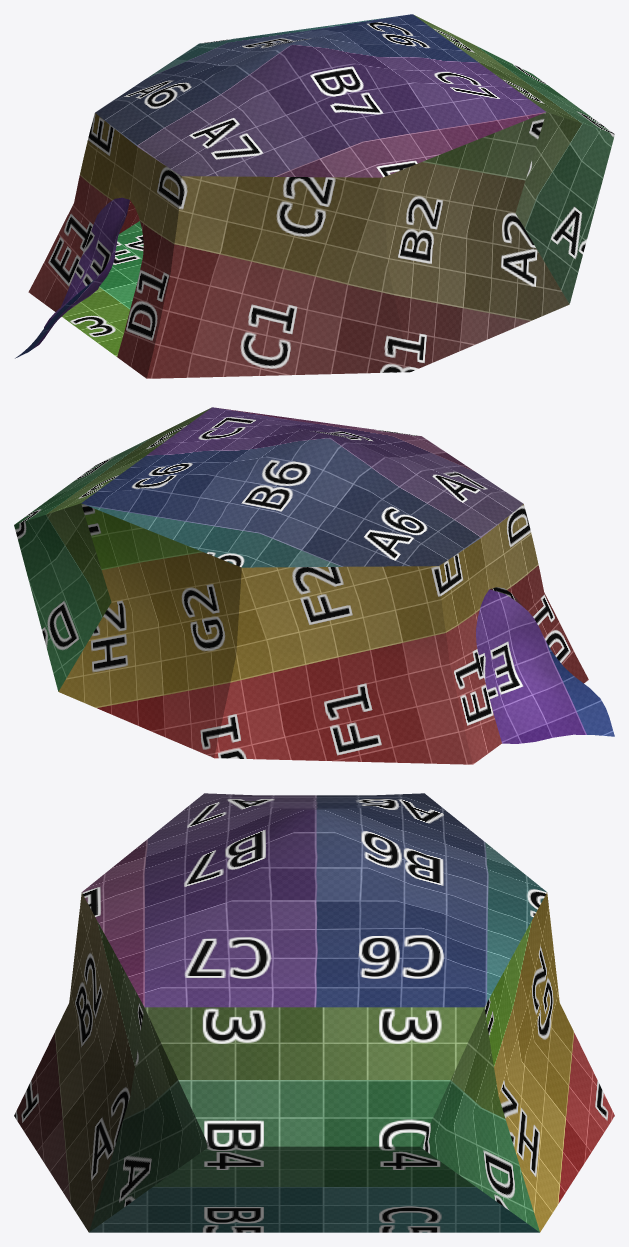
The model's file is TENT_MAIN.glb.
3 views of the same model, one above another, from view 1: azimuth 30°, elevation 25°; view 2: azimuth 150°, elevation 25°; view 3: azimuth 270°, elevation 25° (orthographic). The views are drawn at different scales.
Visible parts, largest first — view 1: Cylinder.001; view 2: Cylinder.001; view 3: Cylinder.001.
Boxes of the visible parts, box(x1,y1,x2,y2) form: Cylinder.001: box(15, 14, 614, 378); Cylinder.001: box(14, 407, 614, 764); Cylinder.001: box(14, 793, 614, 1232).
Size of the model in its own units: 7.98 by 3.24 by 5.78.
Materials: 1 (1 with a texture image).
